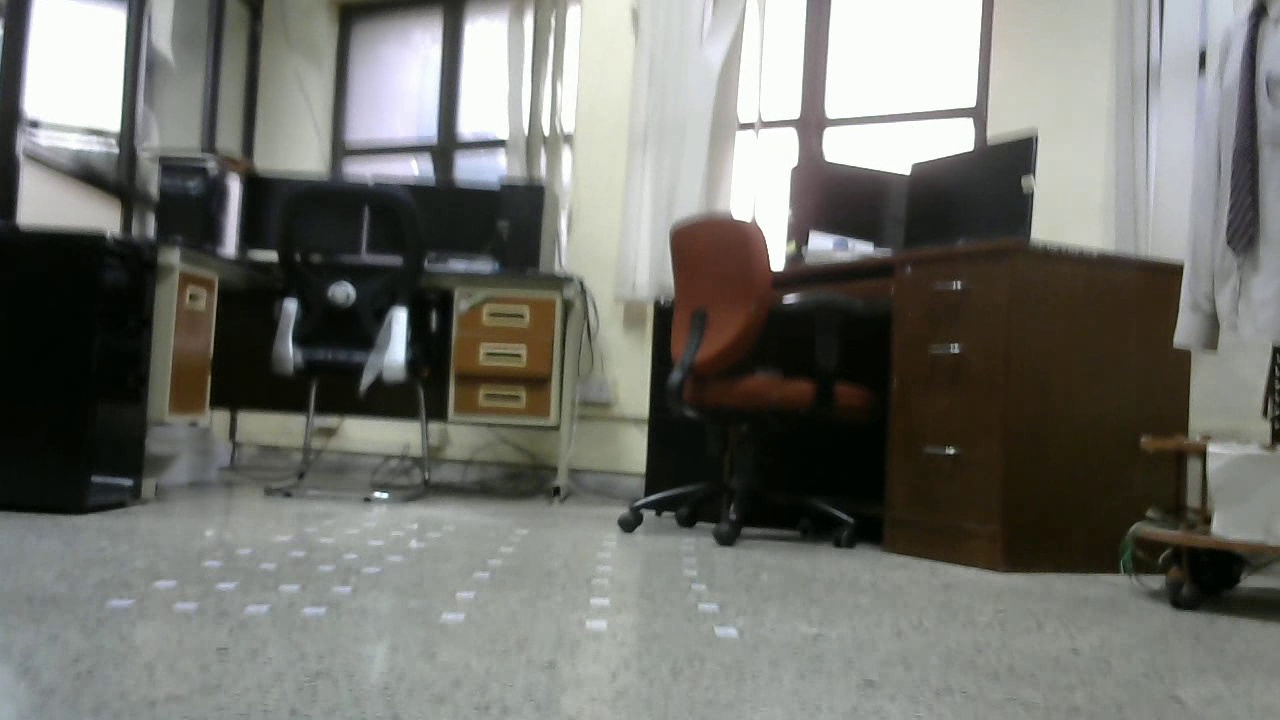chair: (618, 215, 872, 548), (272, 186, 437, 505)
